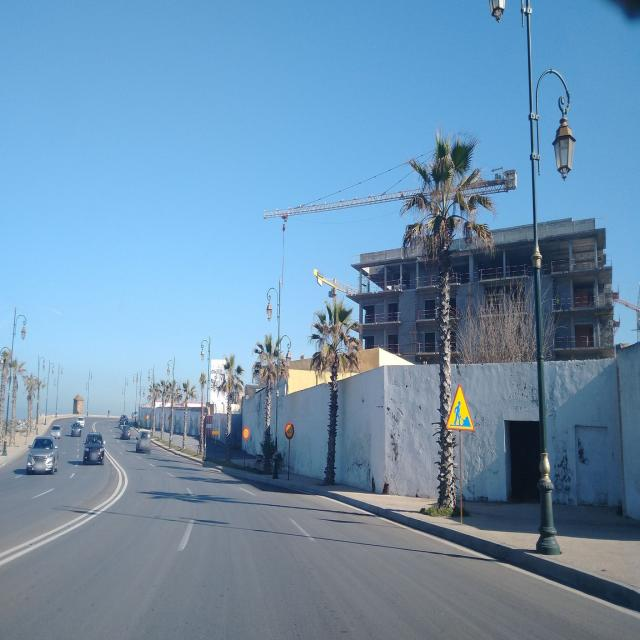car: (26, 435, 58, 476), (82, 431, 105, 466), (134, 430, 152, 454), (49, 422, 62, 438), (120, 422, 130, 440), (69, 421, 80, 437)
